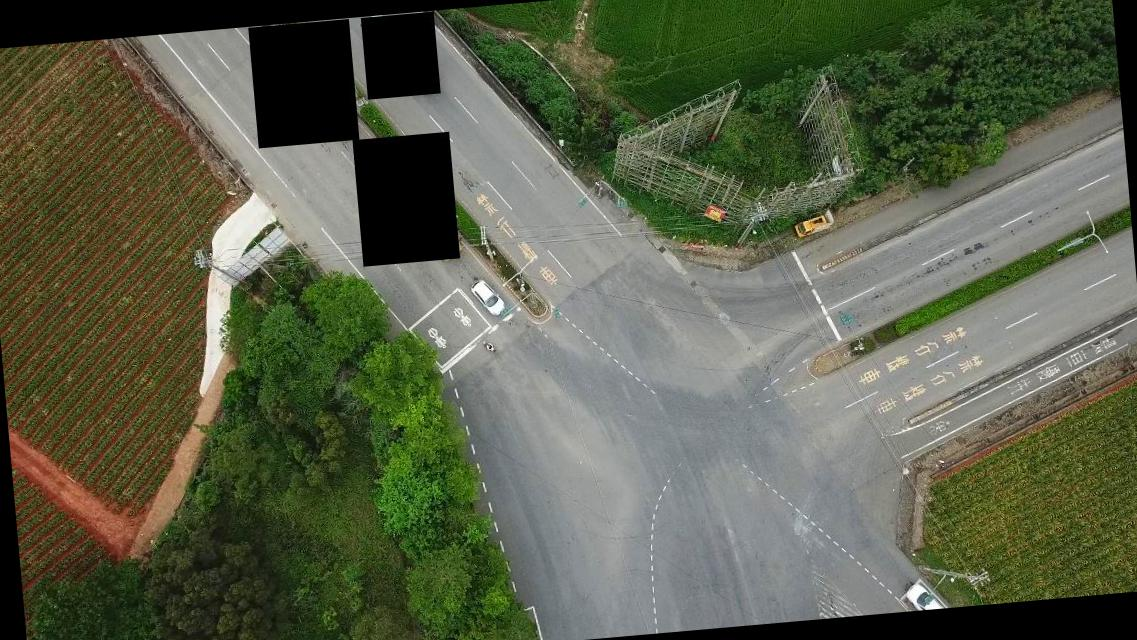vehicle: (470, 278, 506, 320), (904, 580, 940, 612), (790, 214, 829, 240)
